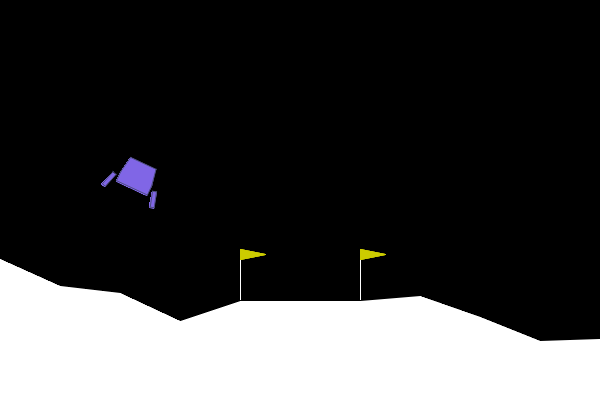lander: (100, 149, 171, 211)
